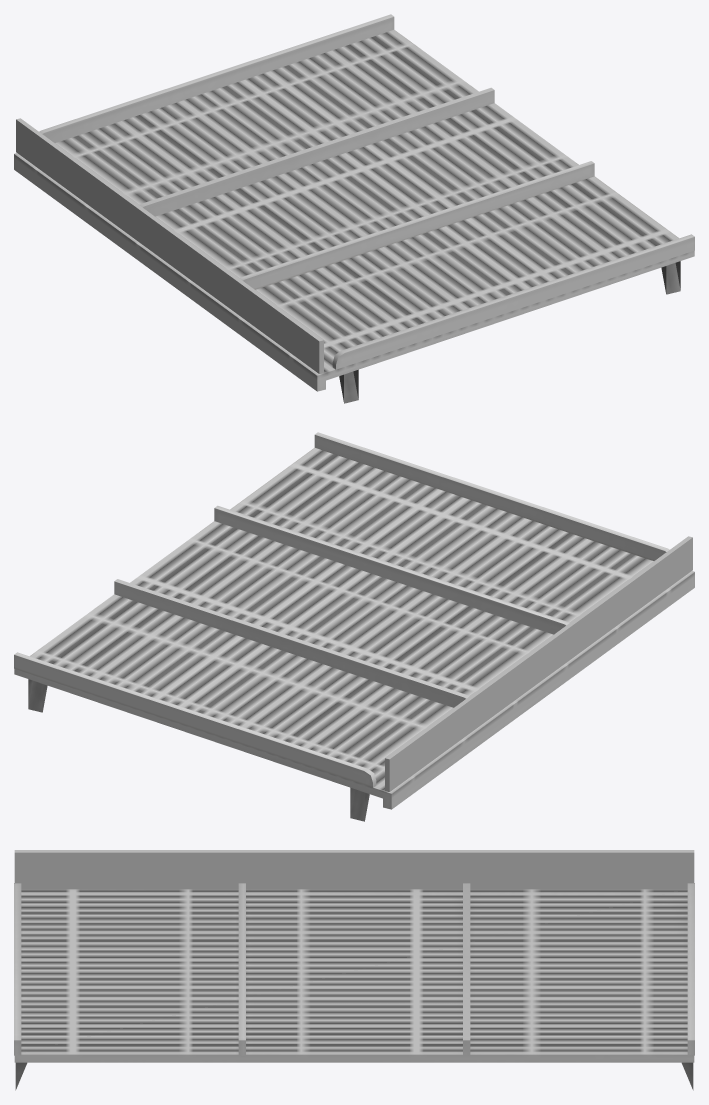
Rendered from SM_Freezer_02_Shelf.fbx.
The picture shows the model from 3 angles, top to bottom: view 1: azimuth 30°, elevation 25°; view 2: azimuth 150°, elevation 25°; view 3: azimuth 270°, elevation 25°; orthographic projection. The views are drawn at different scales.
Parts seen in each view (by area): view 1: SM_Freezer_02_Shelf_LOD0; view 2: SM_Freezer_02_Shelf_LOD0; view 3: SM_Freezer_02_Shelf_LOD0.
Boxes of the visible parts, x1,y1,x2,y2 form: SM_Freezer_02_Shelf_LOD0: (14,14,694,403); SM_Freezer_02_Shelf_LOD0: (14,432,694,821); SM_Freezer_02_Shelf_LOD0: (14,850,694,1090).
Size of the model in its own units: 43.11 by 60.13 by 8.97.
